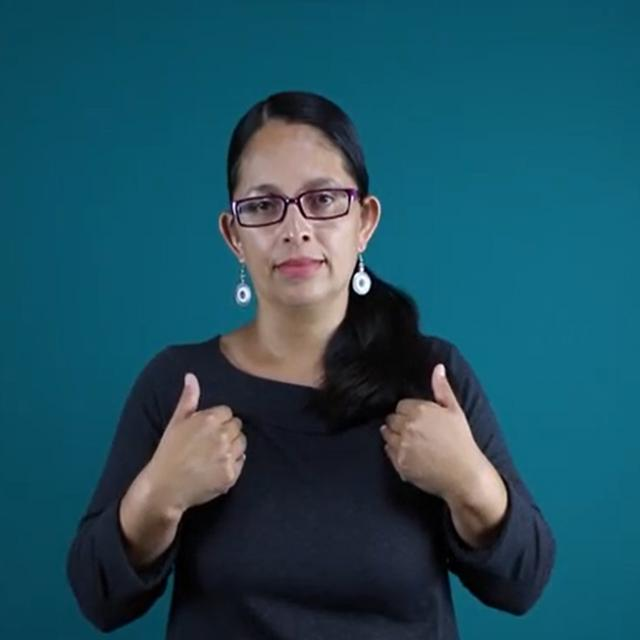have: (152, 363, 472, 506)
